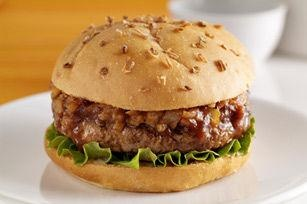background: (21, 4, 122, 61)
